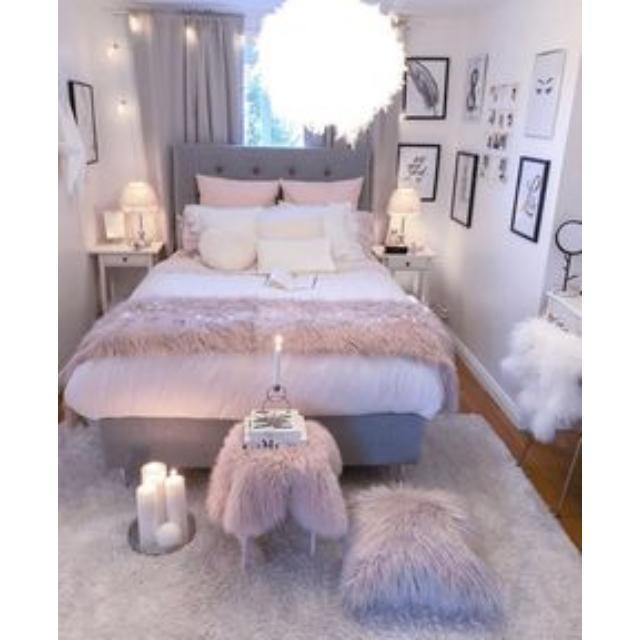bed: (64, 145, 456, 466)
curtain: (129, 14, 242, 214)
lamp: (120, 181, 159, 248), (384, 188, 420, 252)
rug: (60, 415, 580, 640)
table: (90, 210, 163, 313), (373, 245, 433, 304)
wall-art: (526, 50, 564, 138), (512, 156, 550, 242), (406, 58, 449, 119), (398, 144, 440, 201), (70, 81, 98, 163), (450, 151, 479, 227), (487, 84, 517, 149), (467, 54, 487, 118)
